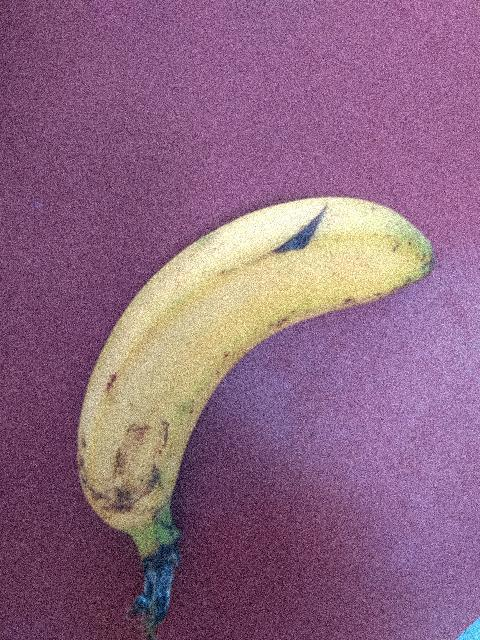ripe: (31, 190, 430, 567)
